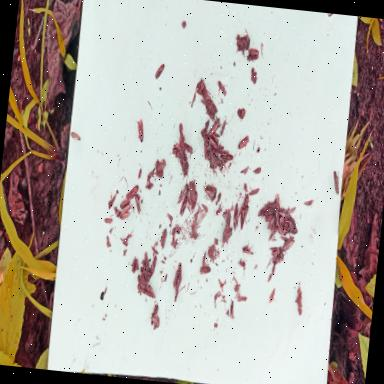pbw: (242, 240, 255, 264), (208, 116, 222, 137), (133, 118, 145, 142), (331, 170, 341, 196), (199, 80, 212, 100), (282, 236, 295, 255), (127, 183, 140, 202), (176, 184, 188, 204), (285, 219, 299, 236), (134, 194, 144, 216), (172, 278, 180, 304), (224, 208, 232, 234), (120, 204, 132, 221), (278, 216, 288, 236), (136, 282, 150, 296), (187, 182, 195, 206), (150, 255, 158, 278), (142, 252, 150, 275), (180, 195, 188, 218), (150, 303, 158, 326), (151, 312, 161, 330), (233, 204, 240, 228), (146, 285, 158, 299), (242, 195, 249, 218), (136, 272, 146, 288), (155, 64, 165, 80), (242, 206, 250, 226), (174, 142, 184, 158), (192, 191, 199, 213), (208, 136, 219, 150), (156, 160, 167, 174), (268, 224, 276, 243), (217, 80, 227, 94), (274, 207, 281, 227), (214, 156, 224, 170), (168, 148, 182, 158), (192, 216, 198, 239), (244, 54, 259, 63), (237, 201, 244, 220), (237, 212, 244, 231), (200, 266, 212, 277), (269, 246, 281, 256), (191, 182, 197, 202), (177, 262, 183, 282), (196, 82, 204, 97), (230, 301, 236, 320), (148, 166, 156, 180), (210, 155, 218, 169), (276, 222, 284, 236), (184, 143, 194, 154), (173, 270, 179, 288), (206, 189, 216, 199), (120, 200, 130, 210), (219, 154, 230, 163), (258, 207, 267, 218), (112, 206, 120, 218), (202, 144, 208, 160), (220, 121, 226, 136), (268, 207, 276, 218), (248, 48, 259, 56), (268, 216, 274, 230), (252, 166, 262, 174), (202, 251, 207, 267), (172, 226, 176, 246), (216, 145, 224, 155), (212, 134, 219, 145), (274, 256, 280, 268), (228, 154, 236, 163), (220, 149, 230, 156), (237, 296, 247, 303), (212, 148, 219, 158), (266, 201, 274, 208), (278, 211, 286, 218)
